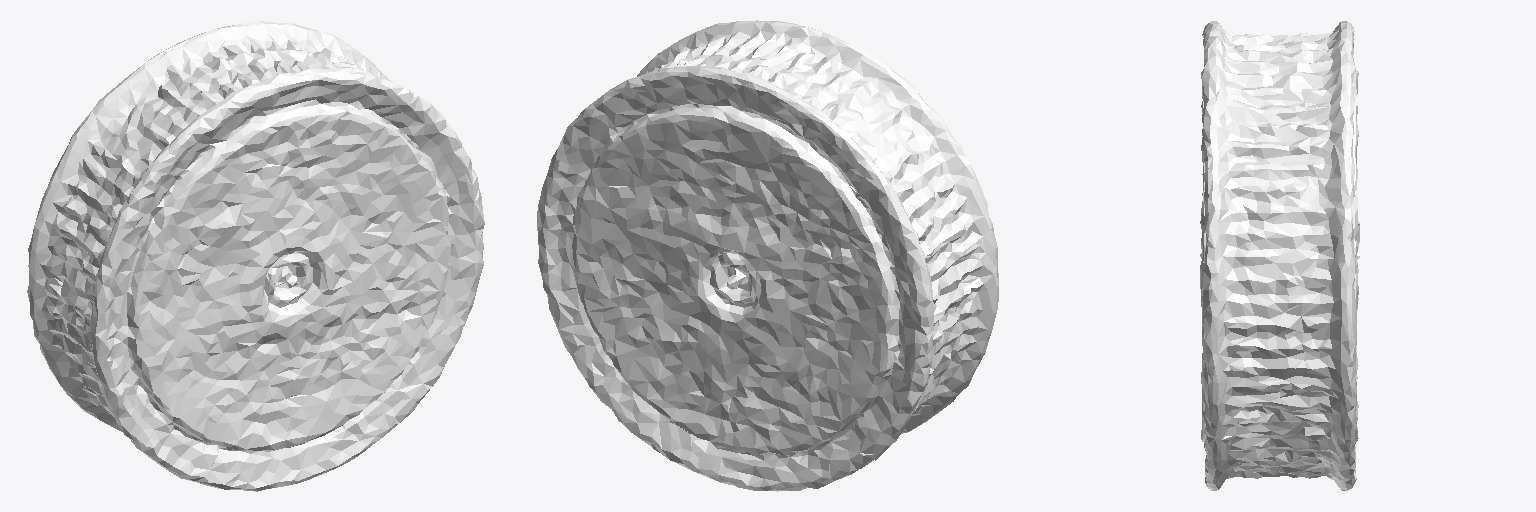
URDF robot description (atb2_timing-pulley-large):
<?xml version="0.0" ?>
<robot name="atb2_timing-pulley-large">
  <link name="baseLink">
    <contact>
      <friction_anchor/>
      <lateral_friction value="0.8"/>
      <spinning_friction value="0.001"/>
      <rolling_friction value="0.001"/>
      <contact_cfm value="0.0"/>
      <contact_erp value="0.2"/>
    </contact>
    <inertial>
       <origin rpy="0 0 0" xyz="0 0 0"/>
       <mass value="0.01"/>
       <inertia ixx="1e-3" ixy="0" ixz="0" iyy="1e-3" iyz="0" izz="1e-3"/>
    </inertial>
    <visual>
      <origin rpy="0 0 0" xyz="0 0 0"/>
      <geometry>
        <mesh filename="obj/fused_model.obj" scale="1 1 1"/>
      </geometry>
      <material name="white">
        <color rgba="1. 1. 1. 1."/>
      </material>
    </visual>
    <collision>
      <origin rpy="0 0 0" xyz="0 0 0"/>
      <geometry>
        <mesh filename="obj/fused_model.obj" scale="1 1 1"/>
      </geometry>
    </collision>
  </link>
</robot>

--- Facts derived from the render (not from the file) ---
Views: 3 orthographic renders of the robot side by side, from view 1: azimuth 30°, elevation 25°; view 2: azimuth 150°, elevation 25°; view 3: azimuth 270°, elevation 25°.
Model atb2_timing-pulley-large with 1 links and 0 joints (none), rooted at baseLink, posed all joints at 0.
Visible links, largest first — view 1: baseLink; view 2: baseLink; view 3: baseLink.
Link boxes in pixels (x1,y1,x2,y2): baseLink: (27, 21, 484, 491); baseLink: (537, 20, 998, 491); baseLink: (1200, 21, 1359, 490).
Bounding box of the posed robot: 0.0983 × 0.0337 × 0.0988 m (x, y, z).
Meshes: 1 distinct files referenced, 1 mesh visuals loaded (1 OBJ).